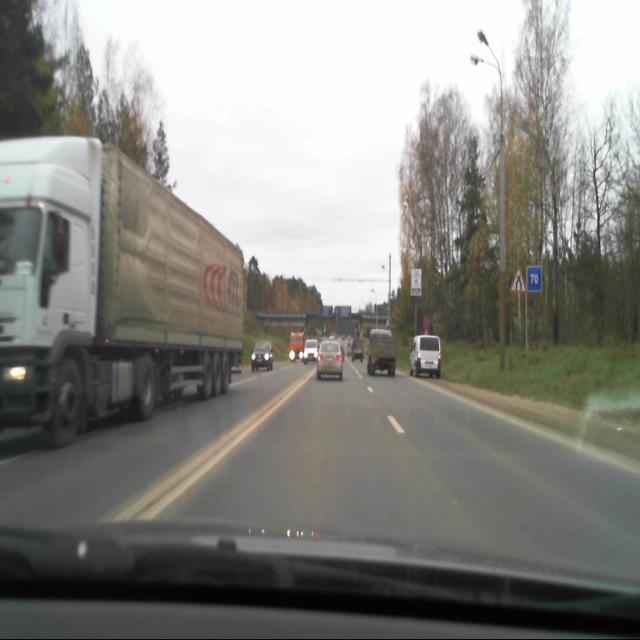road sign: (526, 264, 542, 292), (508, 268, 525, 293)
